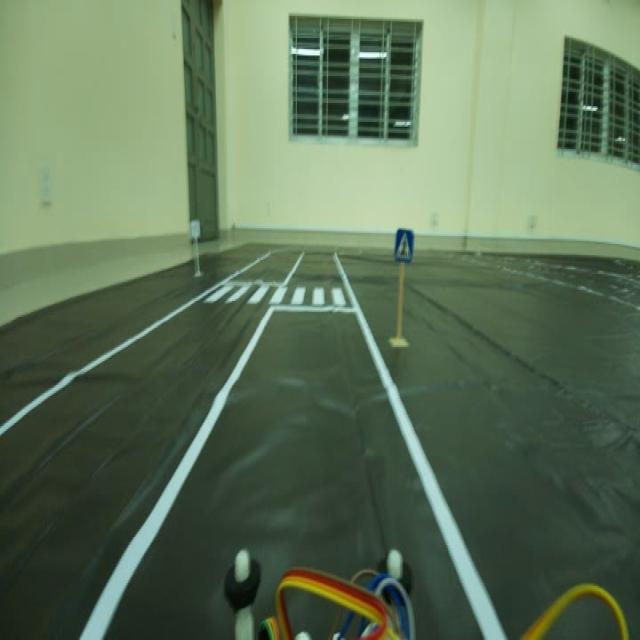crosswalk: (392, 219, 419, 275)
